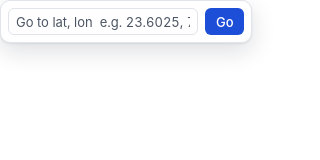
Test: CoordinateSearch › names an out-of-range value
Type "95, 100" into the field named "coordinates". click: x=103, y=22
box: [8,8,198,35]
Then press Enter
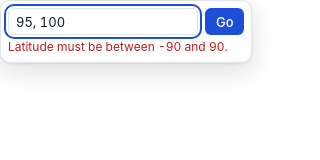
Result: the message shows "Latitude must be between -90 and 90" at [8,38,228,54]
